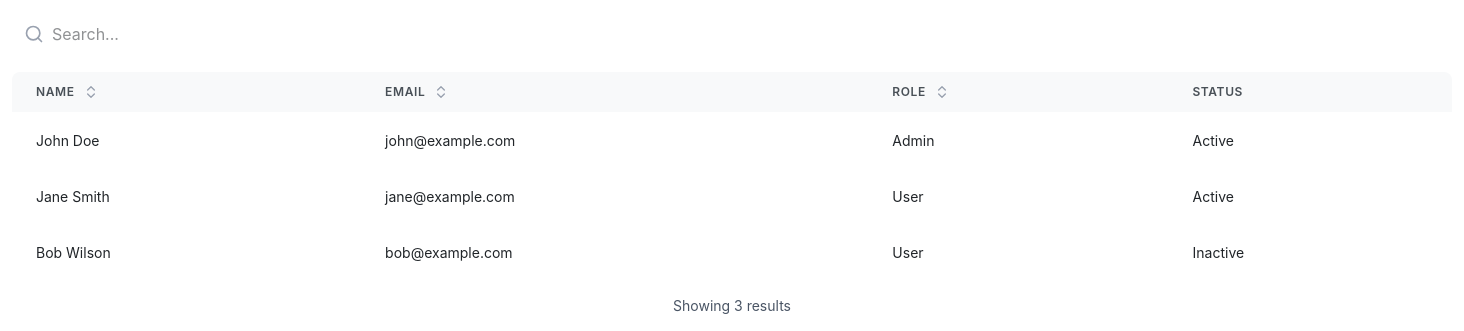
Test case: DataTable Component › Search Functionality › should filter data based on search query
In the field with placeholder "Search...": [732, 34] box 12,12 -> 1452,56, type "Jane"
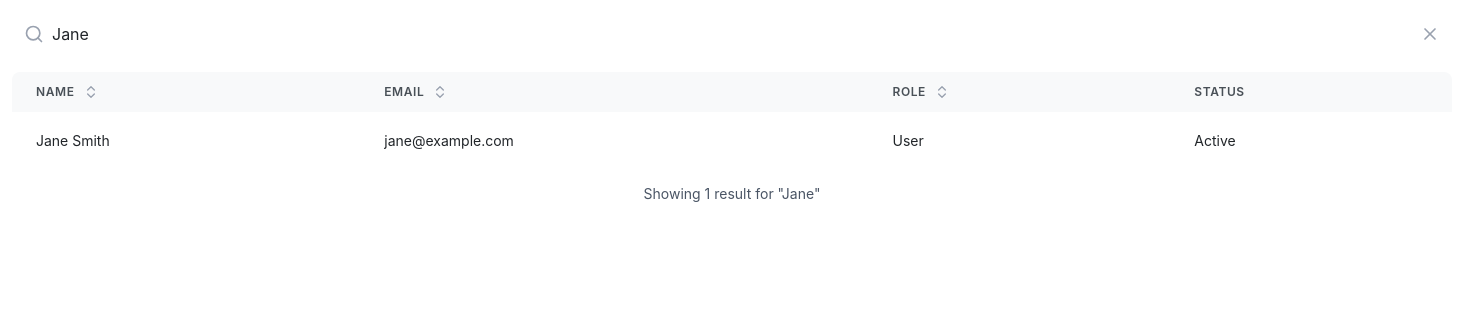
Check: the text "Jane Smith" is shown, box 36,132 -> 110,149
Check: the text "John Doe" is gone
Check: the text "Bob Wilson" is gone
